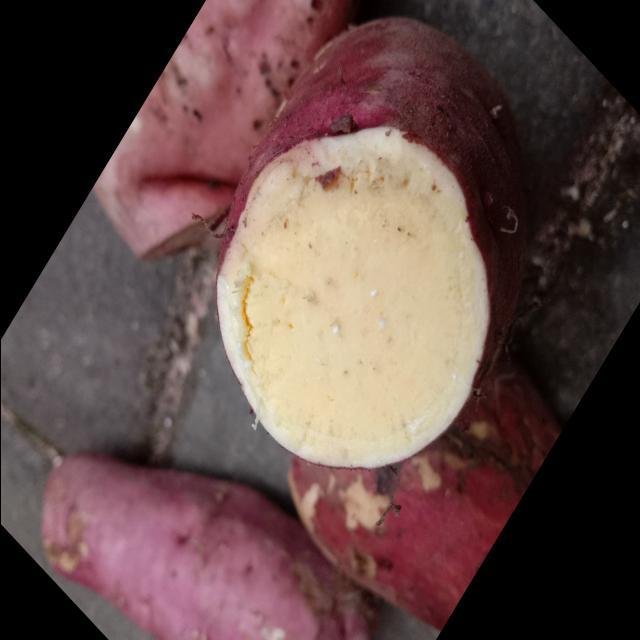Healthy Sweet Potato: (216, 127, 488, 467)
